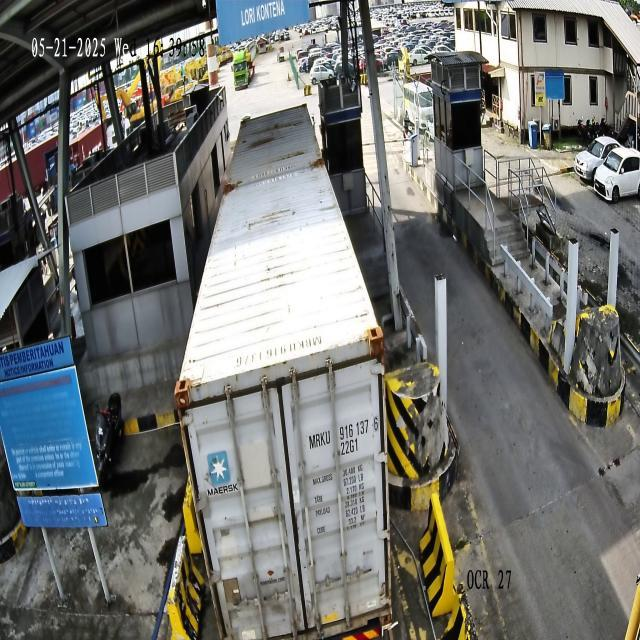ISO: (341, 437, 359, 455)
container_number: (308, 415, 379, 451)
